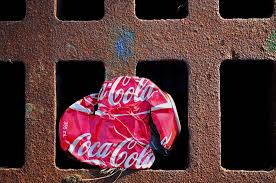Coca-Cola: (69, 128, 156, 171), (94, 77, 161, 113), (69, 106, 104, 123)
